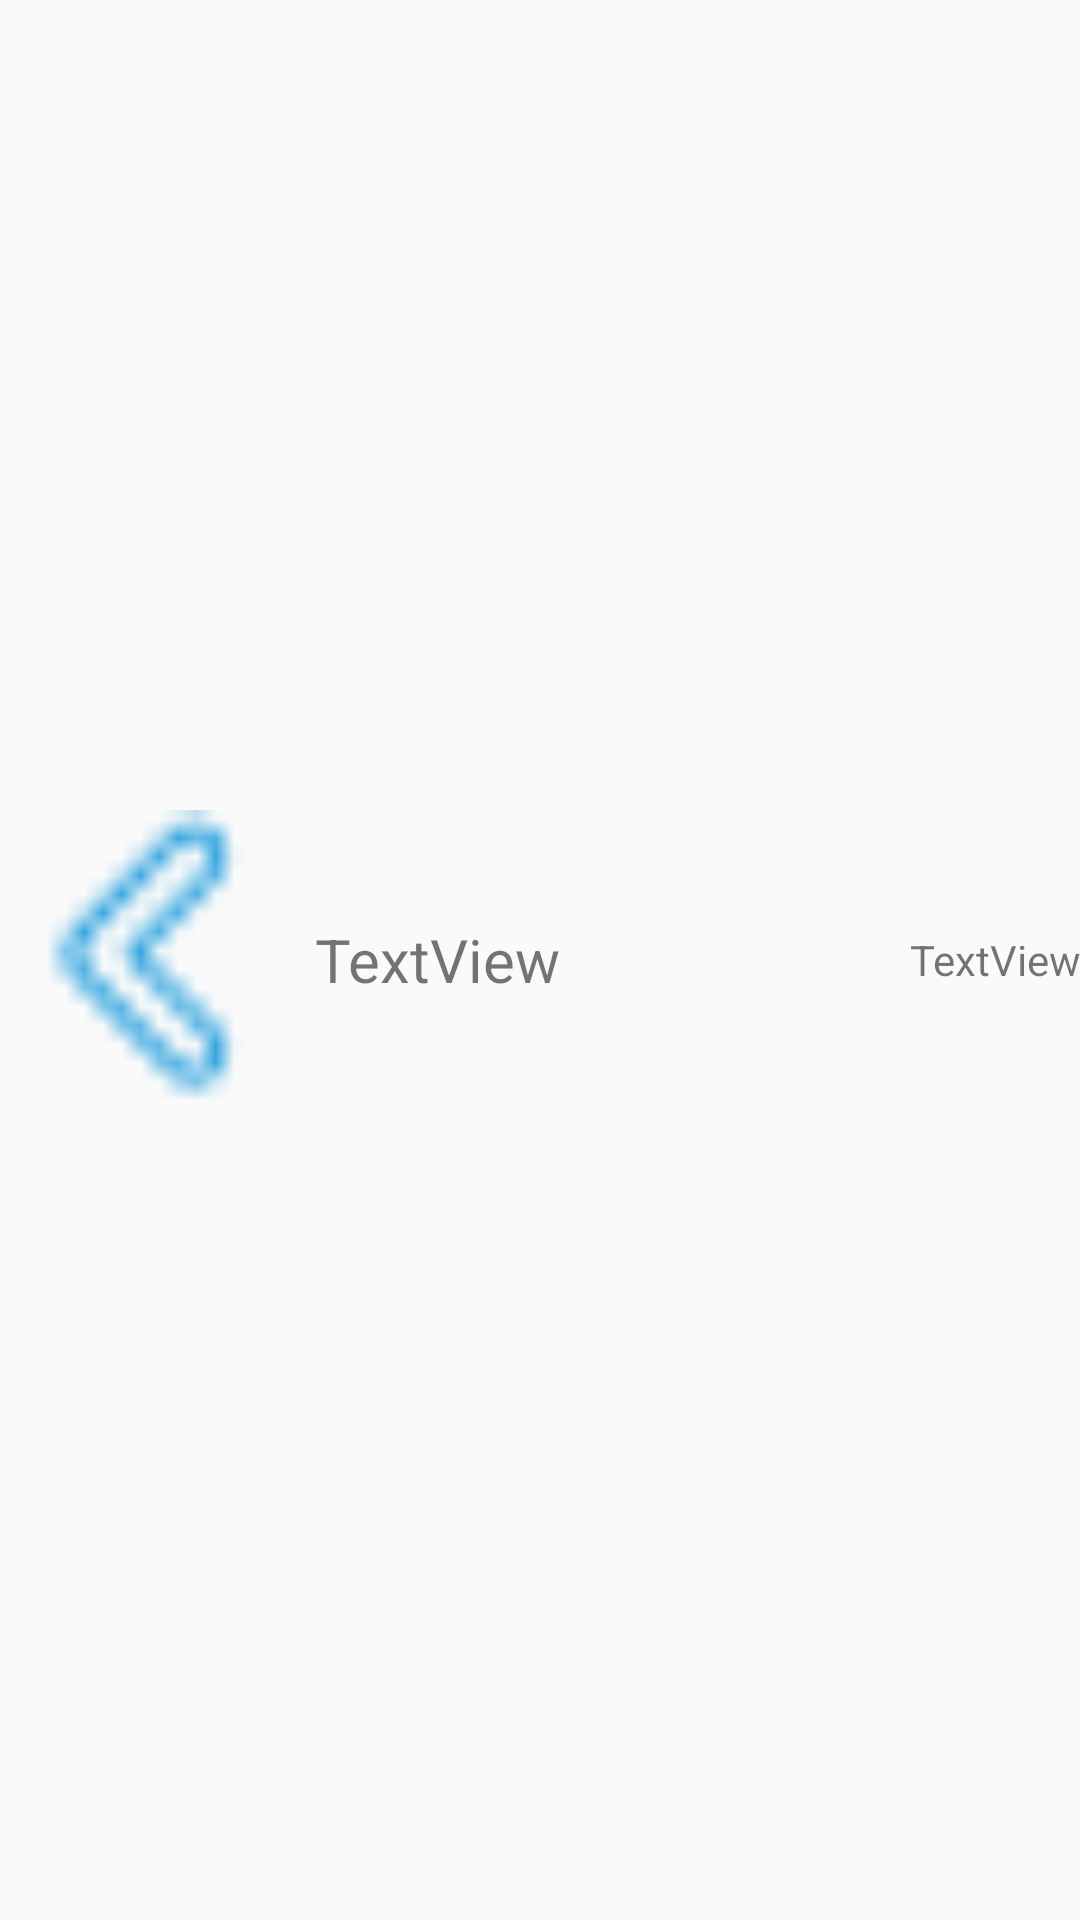

Icons on this 1080 × 1920 Android screen, each with the point to tap as (x,y):
bcak: (141,953)
